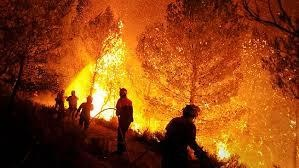fire: (66, 21, 136, 121)
